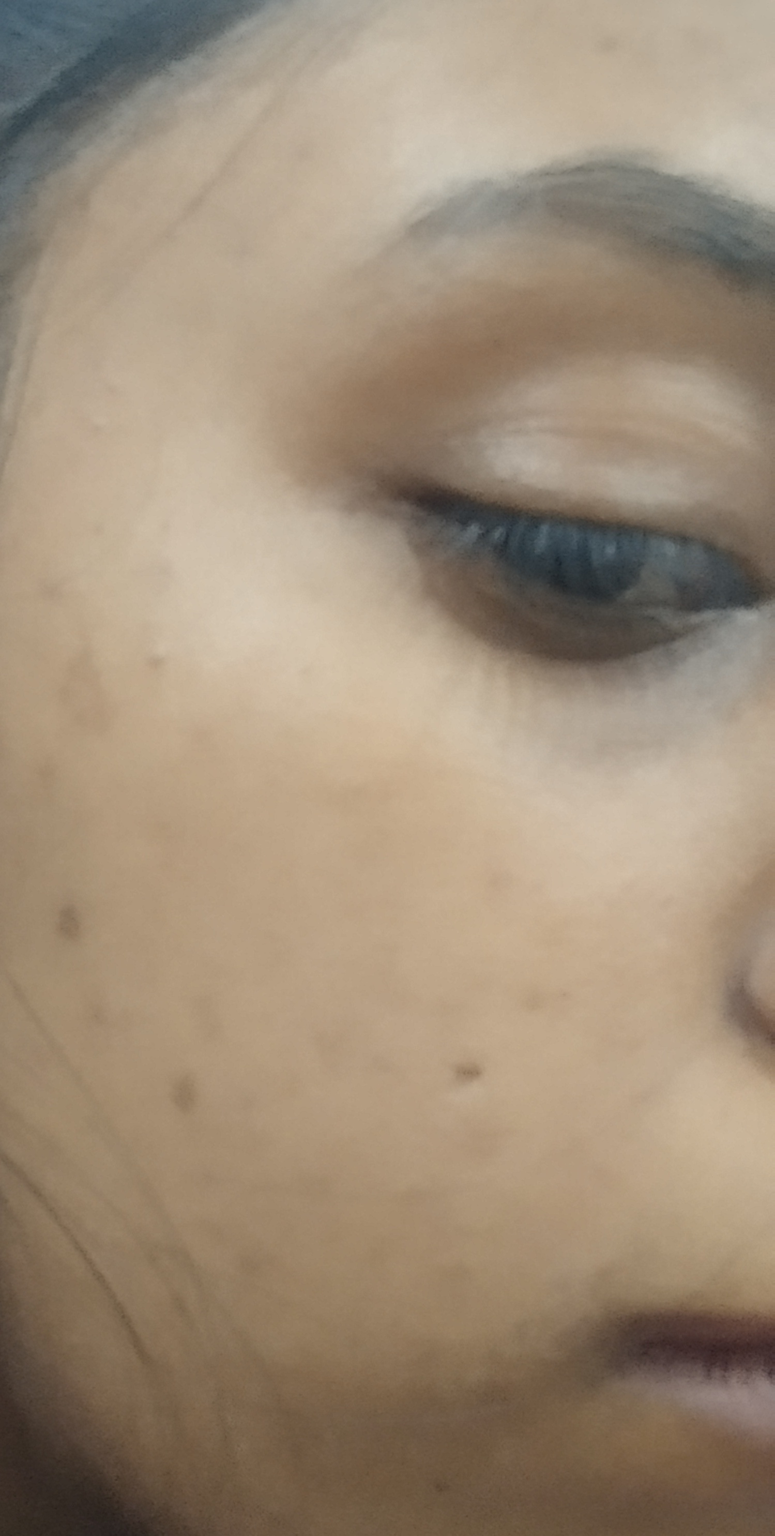closed_comedone: (130, 612, 204, 693)
